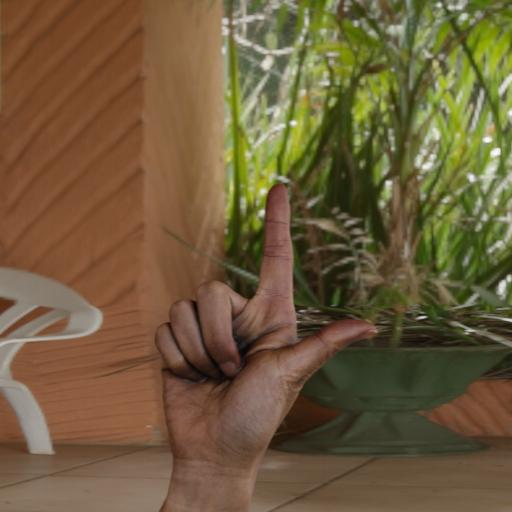L: (150, 178, 380, 458)
